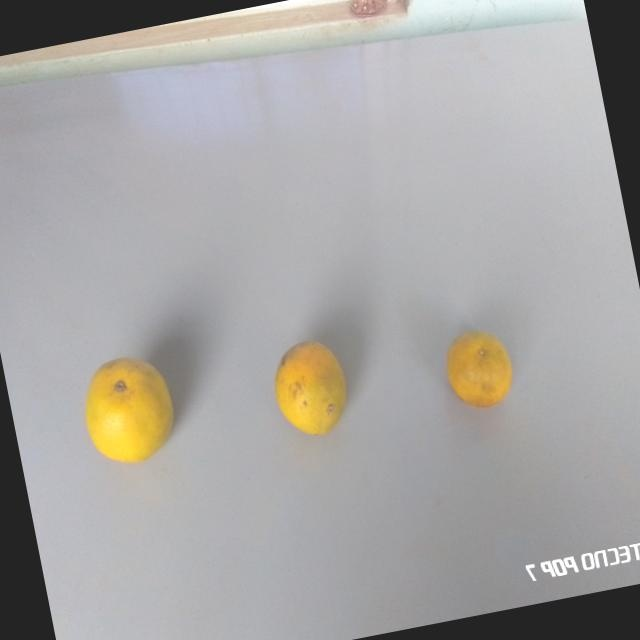agrume: (68, 341, 192, 479), (254, 331, 366, 449), (428, 299, 528, 425)
